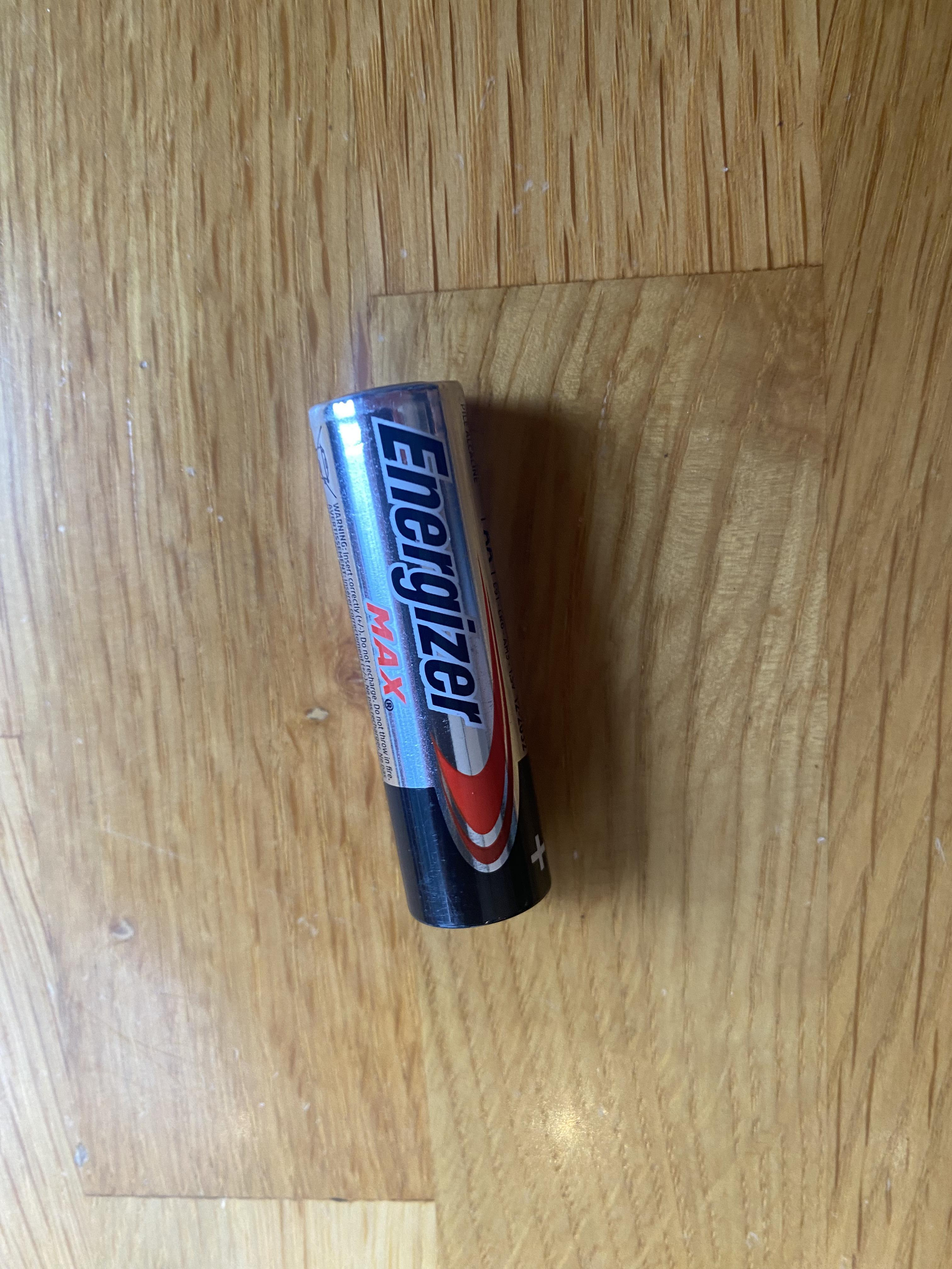AA: (301, 372, 561, 938)
